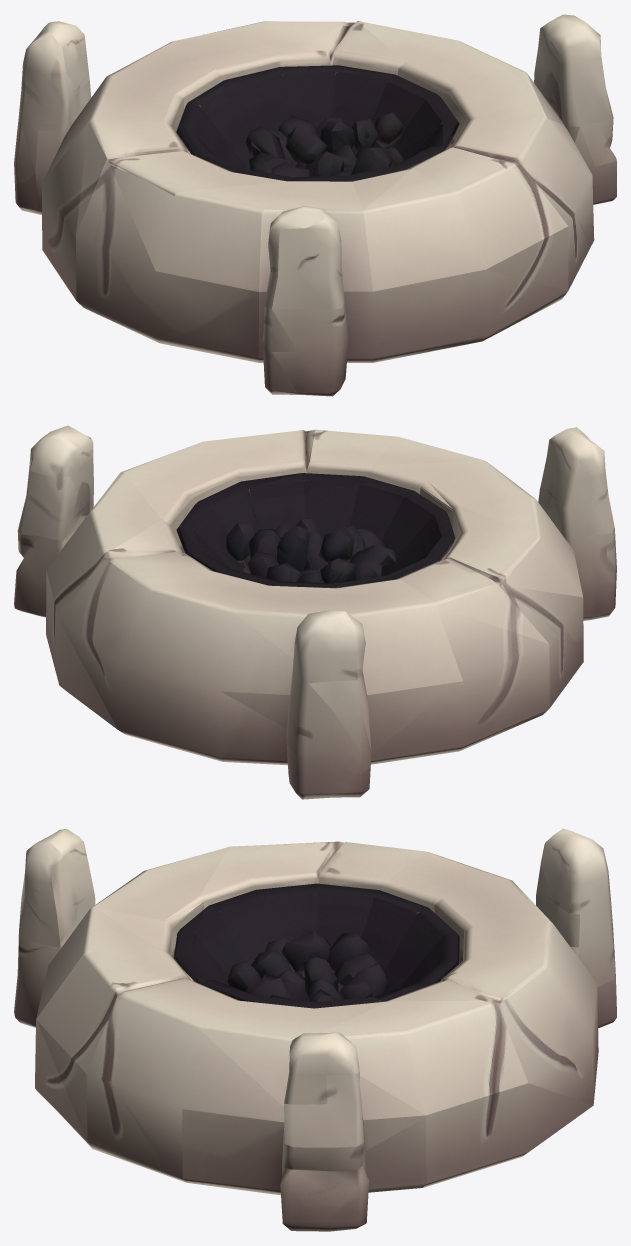
File: ancient_heart.glb
3 renders of one model, top to bottom at view 1: azimuth 30°, elevation 25°; view 2: azimuth 150°, elevation 25°; view 3: azimuth 270°, elevation 25°, orthographic. The views are drawn at different scales.
Parts seen in each view (by area): view 1: mesh_node; view 2: mesh_node; view 3: mesh_node.
Boxes of the visible parts, x1,y1,x2,y2 form: mesh_node: (14,14,616,396); mesh_node: (14,425,616,799); mesh_node: (14,828,616,1231).
Bounding box in the file's own units: 1 × 0.3262 × 0.959.
Materials: 1 (1 with a texture image).
